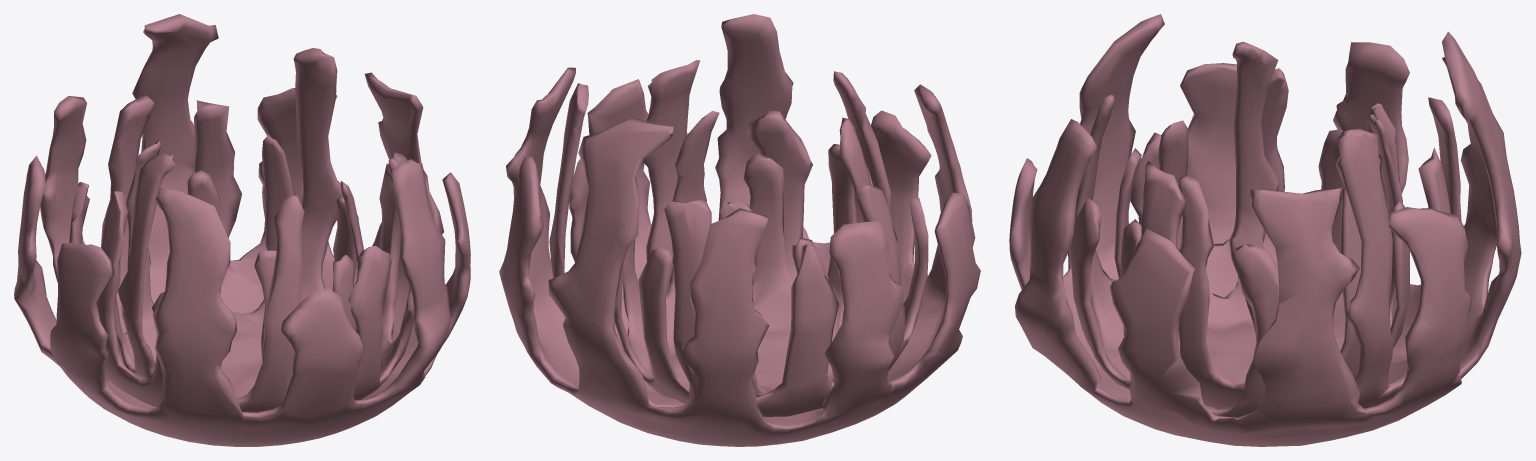
The model's file is coral3.fbx.
The picture shows the model from 3 angles, left to right: view 1: azimuth 30°, elevation 25°; view 2: azimuth 150°, elevation 25°; view 3: azimuth 270°, elevation 25°; orthographic projection. The views are drawn at different scales.
Parts seen in each view (by area): view 1: pSphere6; view 2: pSphere6; view 3: pSphere6.
Part boxes in pixels (left/top/right/bottom): pSphere6: left=14, top=14, right=470, bottom=446; pSphere6: left=499, top=14, right=980, bottom=446; pSphere6: left=1009, top=14, right=1521, bottom=446.
Size of the model in its own units: 0.4454 by 0.3637 by 0.4545.
